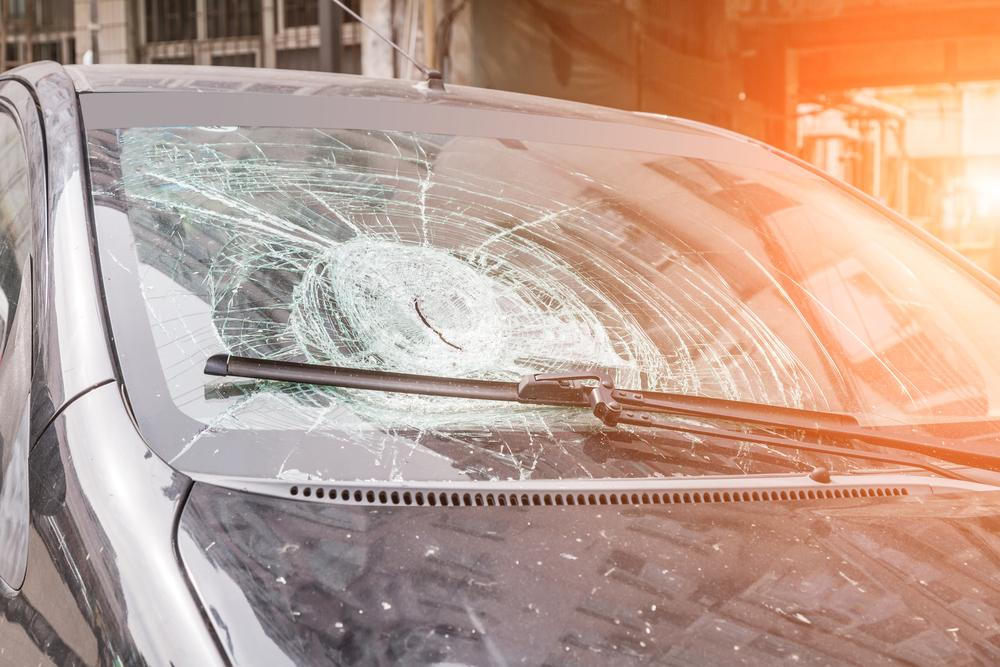glass shatter: (87, 127, 1000, 480)
